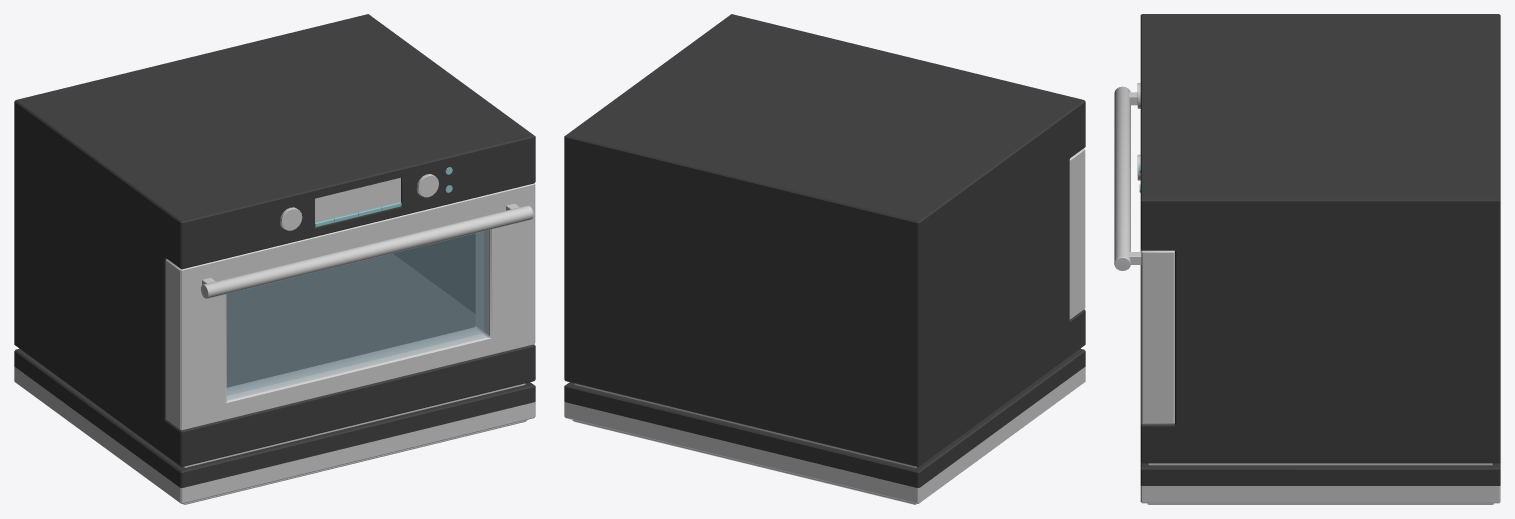
File: FQ159Ust.FBX
3 views of the same model, side by side, from view 1: azimuth 30°, elevation 25°; view 2: azimuth 150°, elevation 25°; view 3: azimuth 270°, elevation 25° (orthographic). The views are drawn at different scales.
Visible parts, largest first — view 1: FQ159Ust; view 2: FQ159Ust; view 3: FQ159Ust.
Part boxes in pixels (x1=…): FQ159Ust: x1=14, y1=14, x2=535, y2=504; FQ159Ust: x1=564, y1=14, x2=1085, y2=504; FQ159Ust: x1=1114, y1=14, x2=1500, y2=504.
Bounding box in the file's own units: 59.5 × 52.1 × 46.
